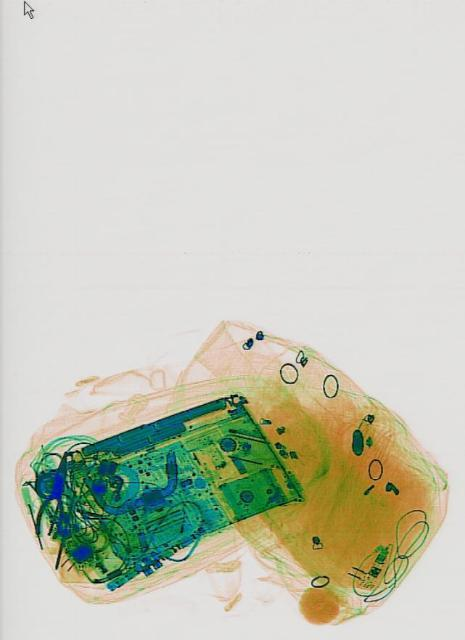Pliers: (30, 448, 76, 542)
